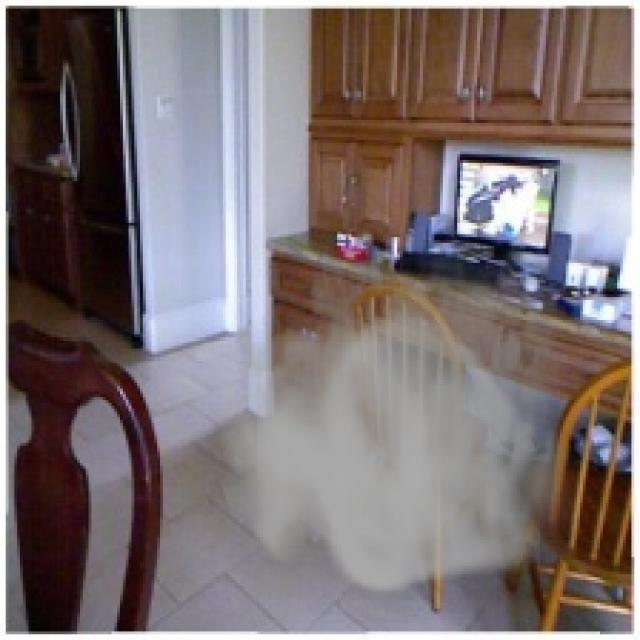Smoke: (217, 211, 589, 600)
